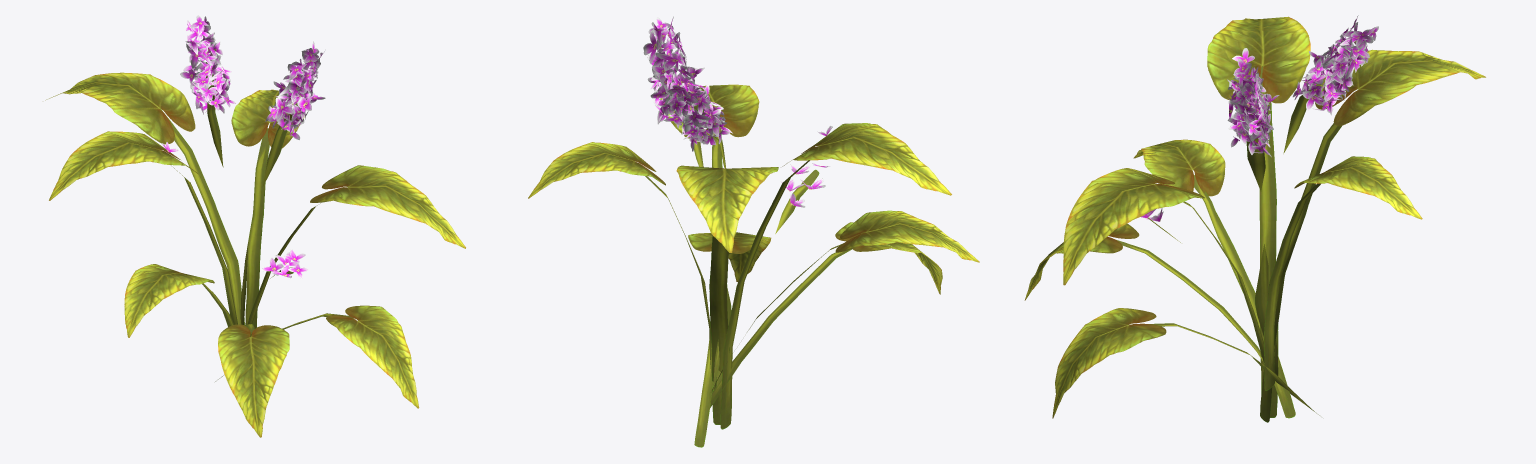
Rendered from plant-2.fbx.
The picture shows the model from 3 angles, left to right: view 1: azimuth 30°, elevation 25°; view 2: azimuth 150°, elevation 25°; view 3: azimuth 270°, elevation 25°; orthographic projection. The views are drawn at different scales.
Visible parts, largest first — view 1: Plant_2_LOD00; view 2: Plant_2_LOD00; view 3: Plant_2_LOD00.
Boxes of the visible parts, x1,y1,x2,y2 form: Plant_2_LOD00: (45,15,465,437); Plant_2_LOD00: (528,16,979,447); Plant_2_LOD00: (1024,15,1485,422).
Size of what is drawn, in the model's own units: 46.21 by 43.46 by 49.14.
